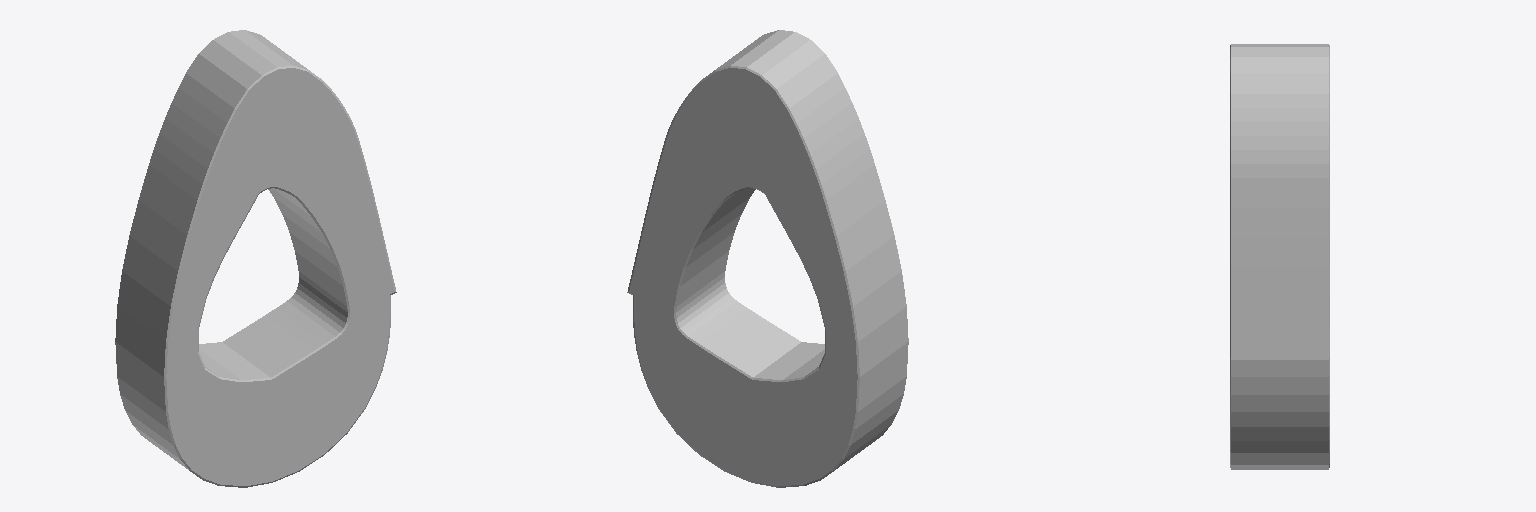
3 renders of one model, left to right at view 1: azimuth 30°, elevation 25°; view 2: azimuth 150°, elevation 25°; view 3: azimuth 270°, elevation 25°, orthographic.
Visible parts, largest first — view 1: 5_Mesh; view 2: 5_Mesh; view 3: 5_Mesh.
Boxes of the visible parts, <box> form: 5_Mesh: <box>115,30,396,487</box>; 5_Mesh: <box>627,30,908,487</box>; 5_Mesh: <box>1230,44,1329,469</box>.
Size of the model in its own units: 1.94 by 3.3 by 0.7176.